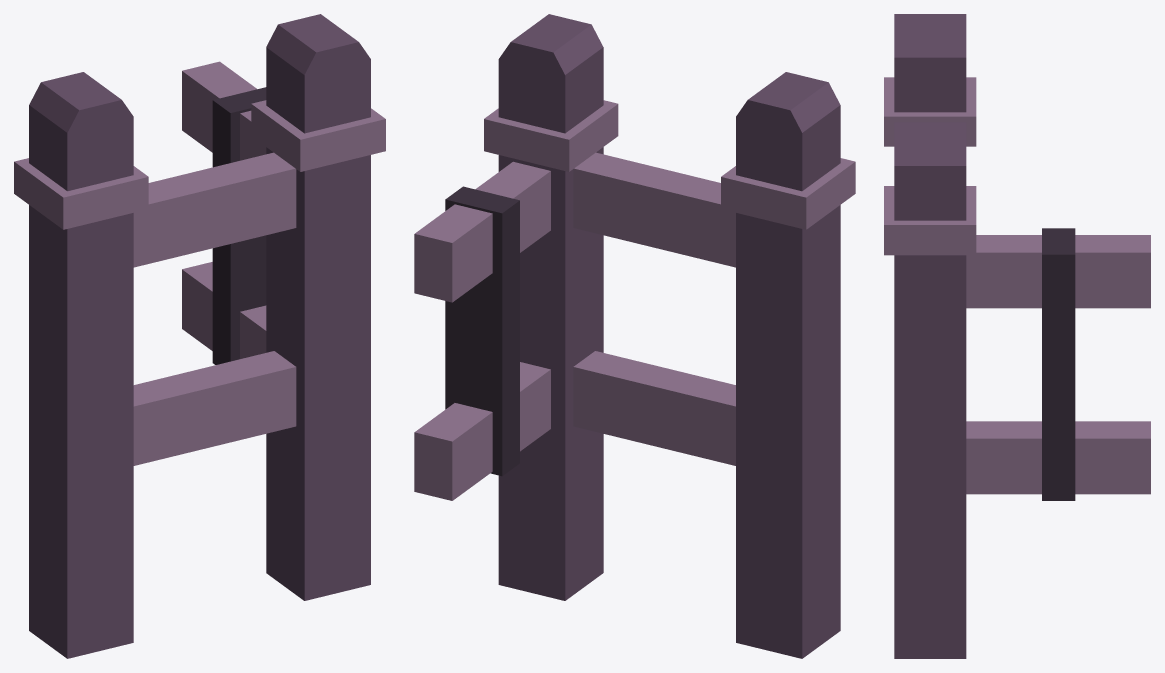
File: TW_WOOD_CORNER_L90_B_LOD0.glb
3 views of the same model, side by side, from view 1: azimuth 30°, elevation 25°; view 2: azimuth 150°, elevation 25°; view 3: azimuth 270°, elevation 25° (orthographic). The views are drawn at different scales.
Visible parts, largest first — view 1: TW_WOOD_CORNER_L90_B_LOD0; view 2: TW_WOOD_CORNER_L90_B_LOD0; view 3: TW_WOOD_CORNER_L90_B_LOD0.
Boxes of the visible parts, x1,y1,x2,y2 form: TW_WOOD_CORNER_L90_B_LOD0: (14,14,385,658); TW_WOOD_CORNER_L90_B_LOD0: (414,14,855,658); TW_WOOD_CORNER_L90_B_LOD0: (884,14,1150,658).
Size of the model in its own units: 0.68 by 1.1 by 0.52.
Materials: 1 (1 with a texture image).
